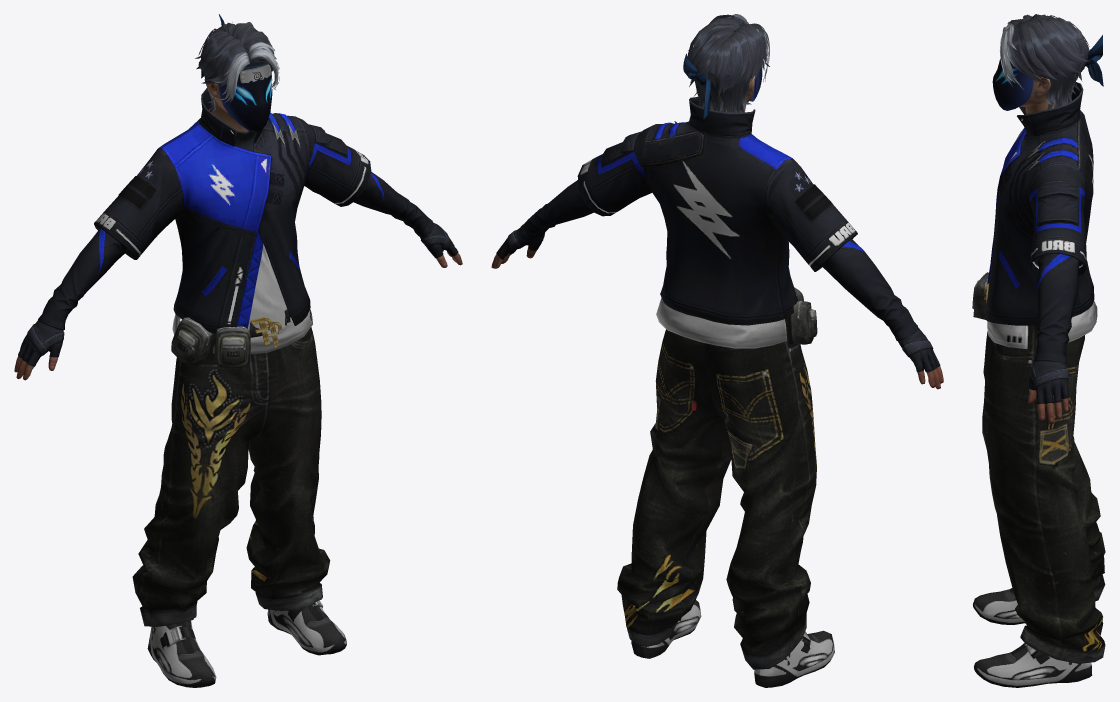
Rendered from max pocher.glb.
3 renders of one model, left to right at view 1: azimuth 30°, elevation 25°; view 2: azimuth 150°, elevation 25°; view 3: azimuth 270°, elevation 25°, orthographic.
Visible parts, largest first — view 1: Max Pocher; view 2: Max Pocher; view 3: Max Pocher.
Part boxes in pixels (<box>): Max Pocher: <box>14,14,462,687</box>; Max Pocher: <box>491,14,943,687</box>; Max Pocher: <box>972,14,1105,687</box>.
Bounding box in the file's own units: 0.6743 × 0.9221 × 0.1749.
Materials: 7 (7 with a texture image).
